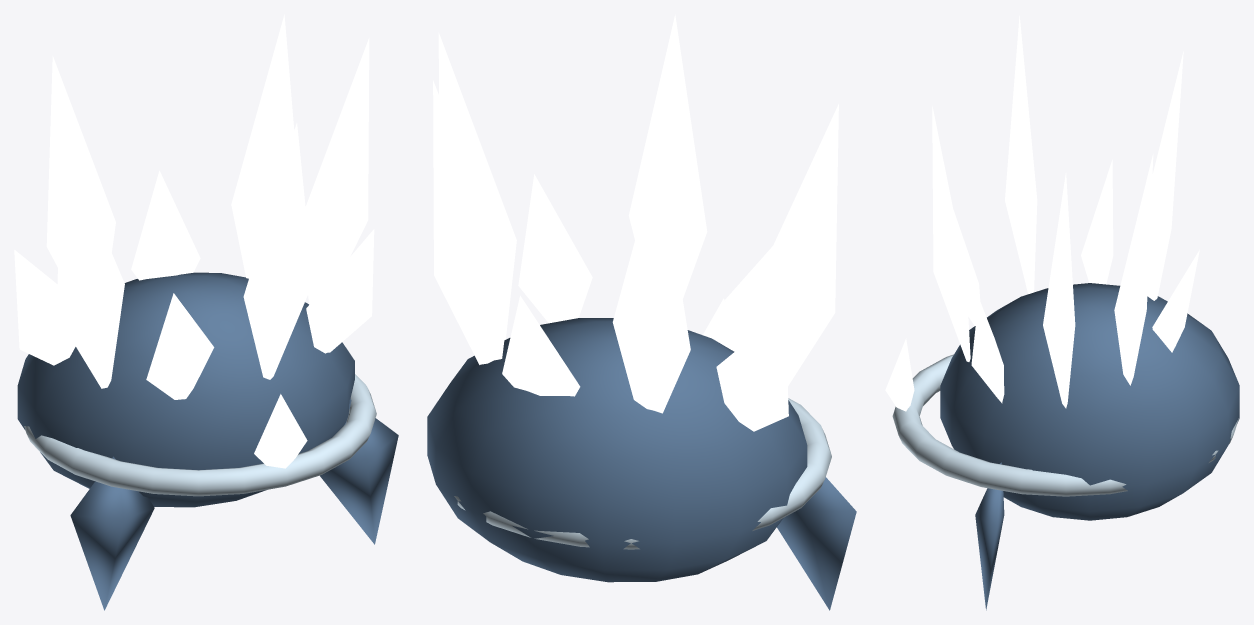
File: boss_winter_court_helm.glb
3 views of the same model, side by side, from view 1: azimuth 30°, elevation 25°; view 2: azimuth 150°, elevation 25°; view 3: azimuth 270°, elevation 25° (orthographic). The views are drawn at different scales.
Parts seen in each view (by area): view 1: Boss_winter_court_2, Boss_winter_court_0, Boss_winter_court_1; view 2: Boss_winter_court_0, Boss_winter_court_2, Boss_winter_court_1; view 3: Boss_winter_court_0, Boss_winter_court_2, Boss_winter_court_1.
Part boxes in pixels (bbox=[...]): Boss_winter_court_2: bbox=[14, 14, 374, 468]; Boss_winter_court_0: bbox=[17, 272, 398, 610]; Boss_winter_court_1: bbox=[24, 374, 376, 496]; Boss_winter_court_0: bbox=[427, 318, 856, 610]; Boss_winter_court_2: bbox=[433, 14, 838, 431]; Boss_winter_court_1: bbox=[454, 398, 831, 549]; Boss_winter_court_0: bbox=[940, 283, 1239, 610]; Boss_winter_court_2: bbox=[885, 15, 1199, 411]; Boss_winter_court_1: bbox=[892, 354, 1238, 496].
Bounding box in the file's own units: 0.4707 × 0.63 × 0.4432.
